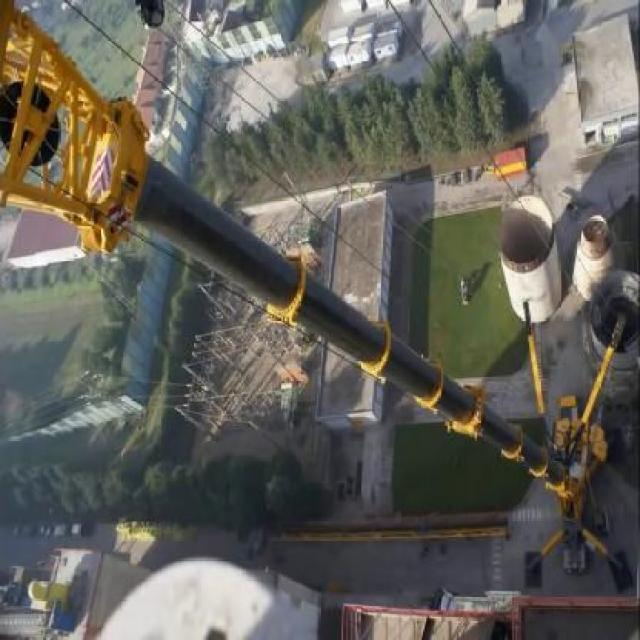Mobile Crane: (2, 0, 636, 606)
